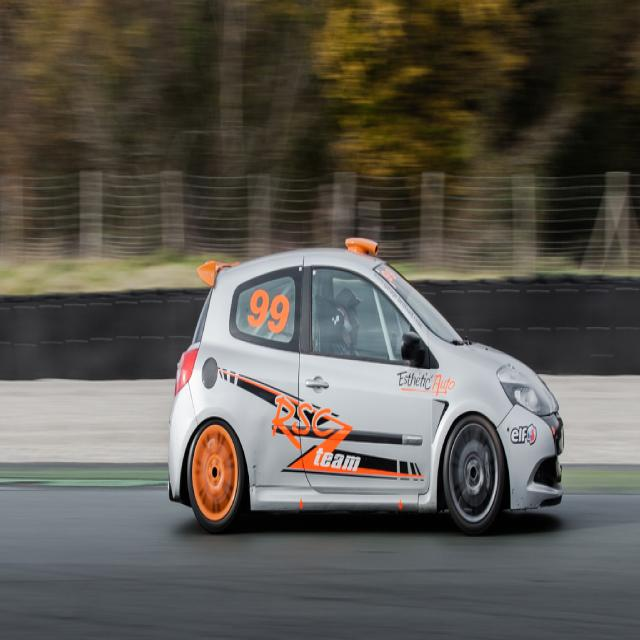car: (161, 229, 567, 533)
